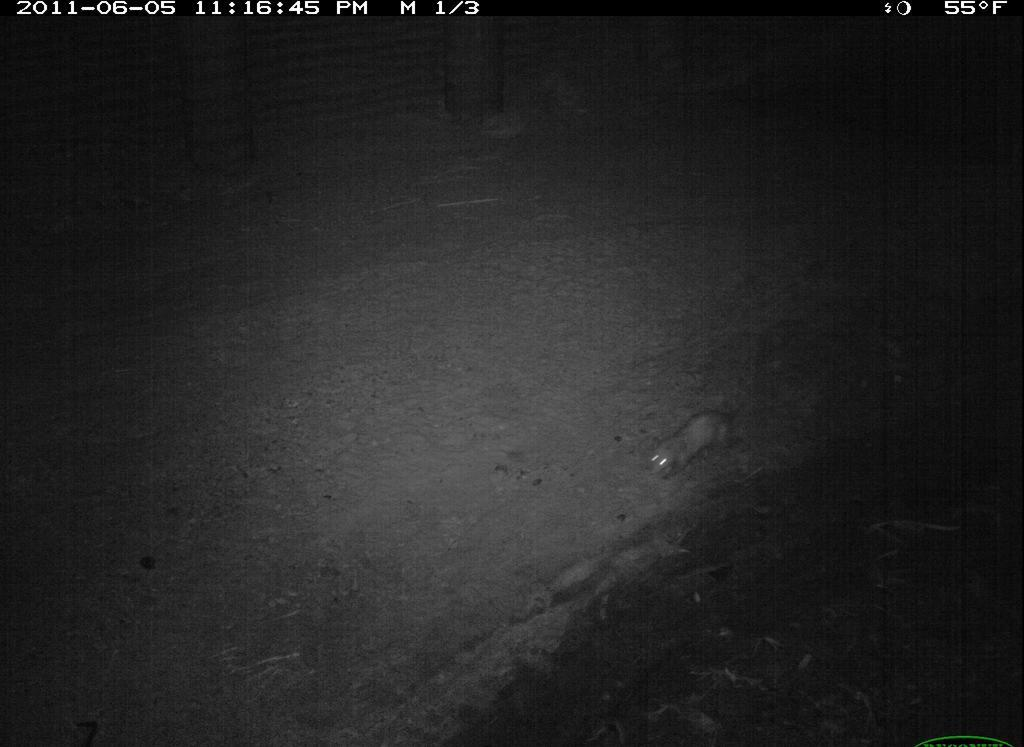opossum: (639, 392, 775, 488)
